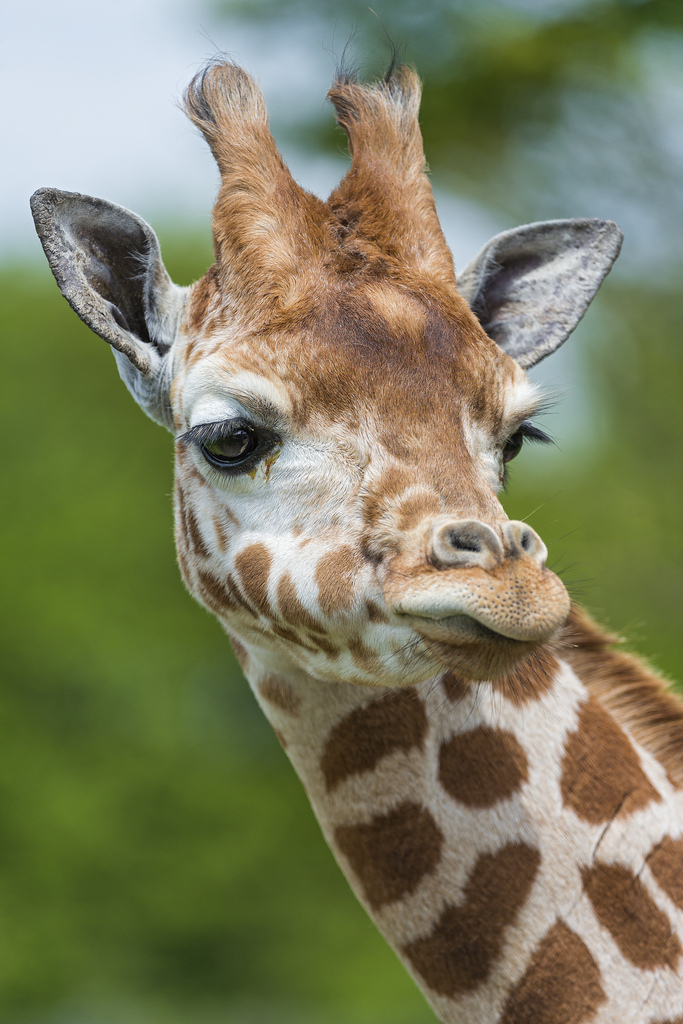giraffe: (60, 55, 641, 1015)
